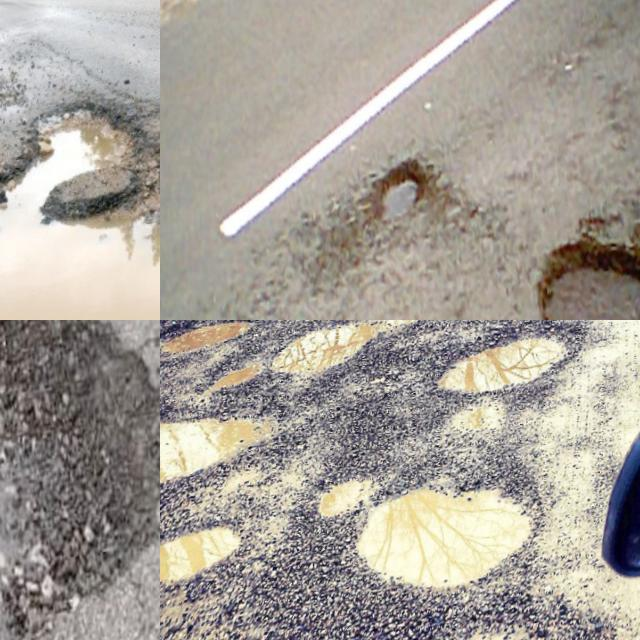Potholes: (268, 375, 640, 640), (0, 320, 160, 640), (0, 38, 160, 320), (326, 65, 467, 307), (160, 355, 307, 521), (495, 165, 640, 320), (188, 597, 640, 640), (160, 497, 293, 624), (160, 320, 230, 372)
